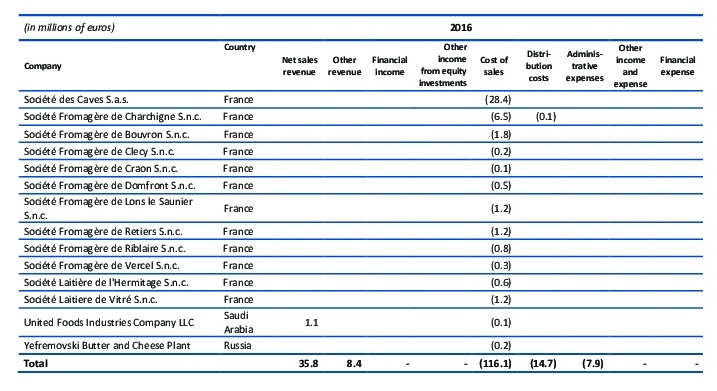table: (0, 0, 717, 391)
